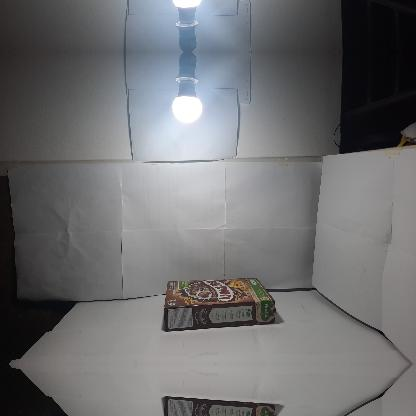Koko-Krunch: (164, 276, 276, 332), (164, 396, 277, 415)
